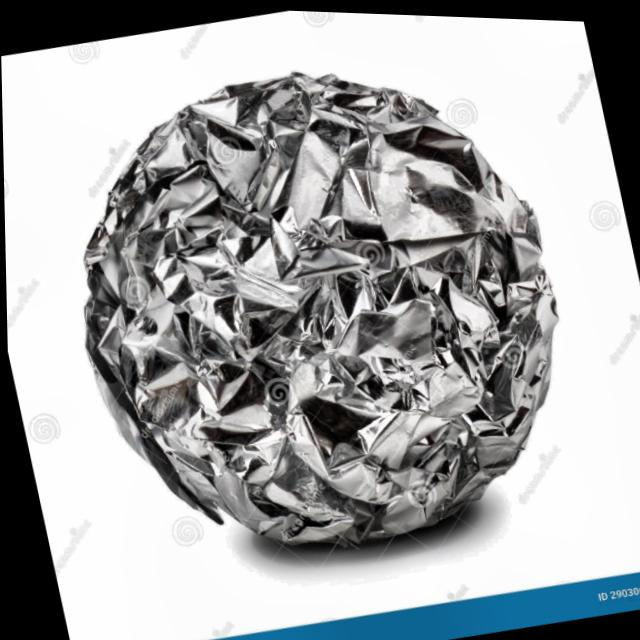Foil: (0, 3, 635, 615)
